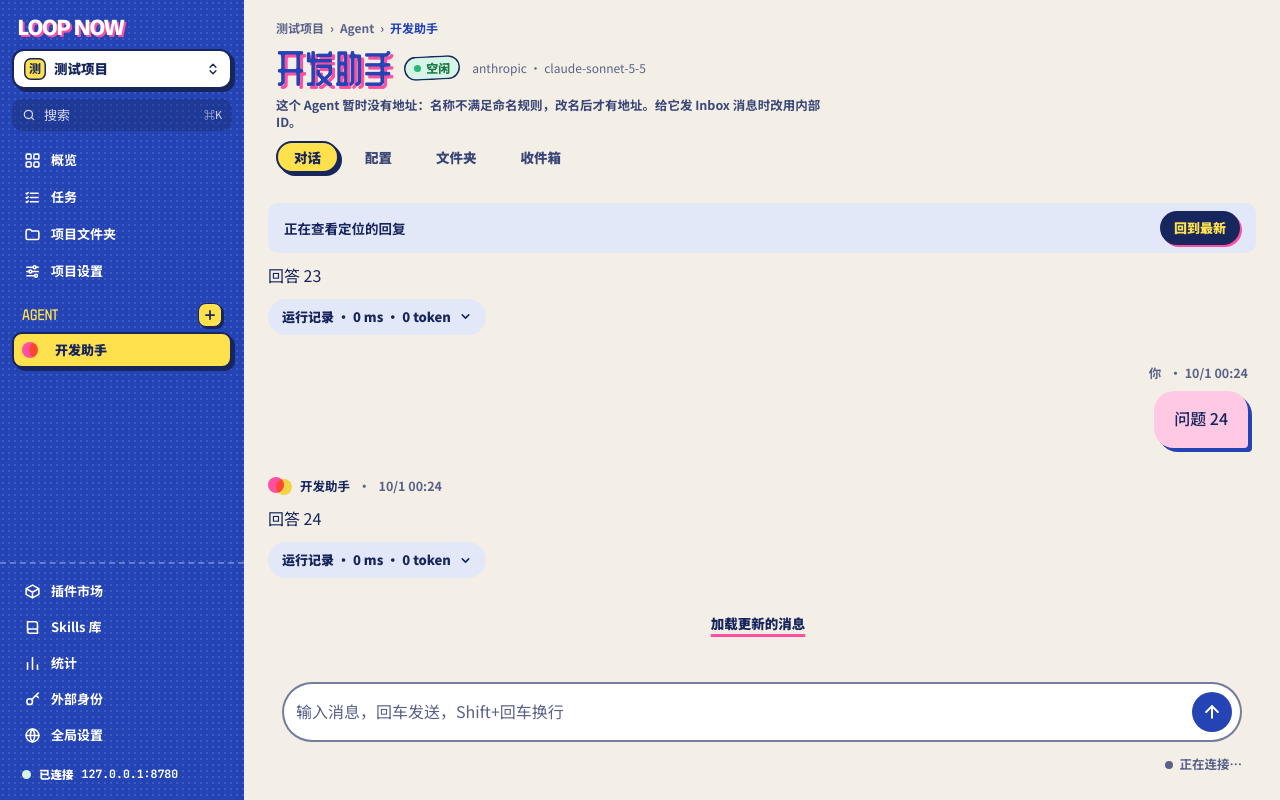
it: 从概览定位到回复 › 定位到很早的回复：显示它并展开运行记录；向下能连续加载到最新消息，没有重复或缺失
(page scrolled)
Check: the element named "对话" is shown, box [268,253,1256,666]
Check: the text "正在查看定位的回复" is shown, box [284,217,406,240]
Click the button "加载更新的消息".
click(758, 624)  # box [699,606,817,642]
(page scrolled)
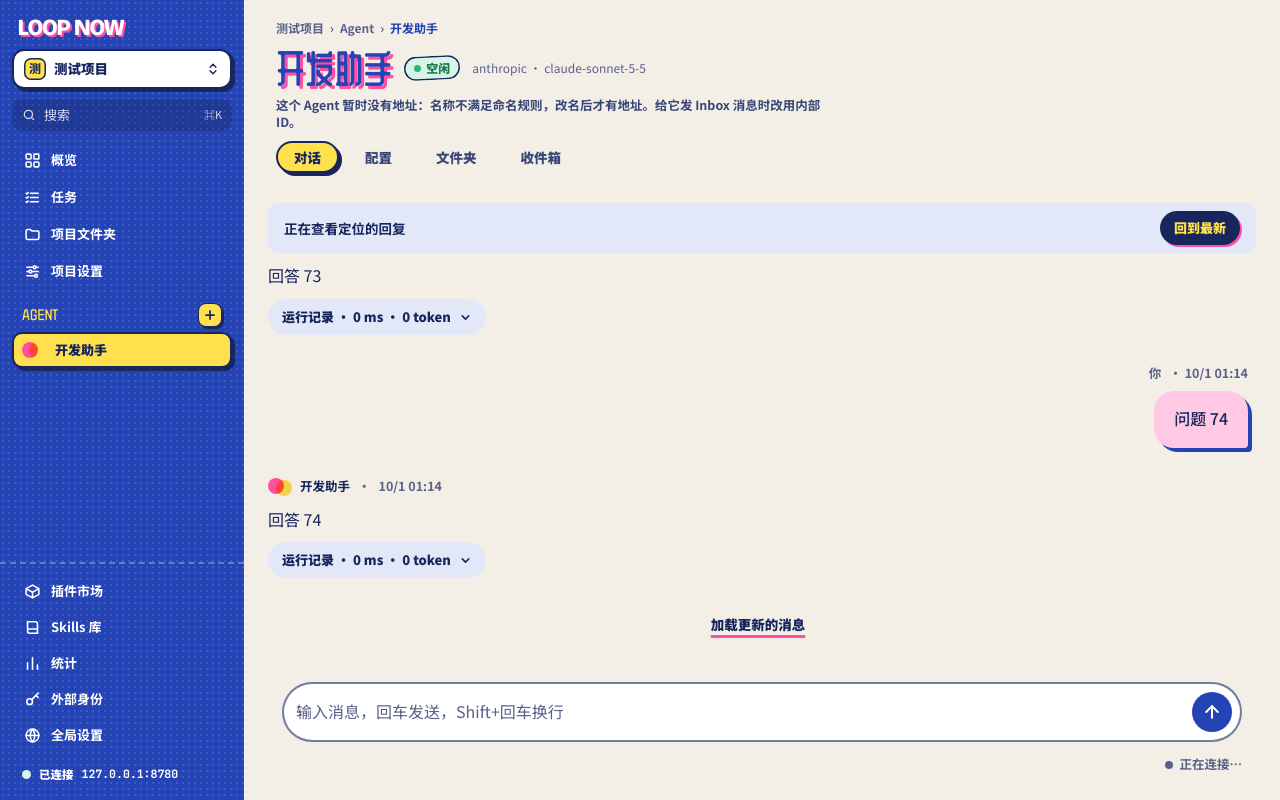
Click the button "加载更新的消息".
click(758, 624)  # box [699,606,817,642]
(page scrolled)
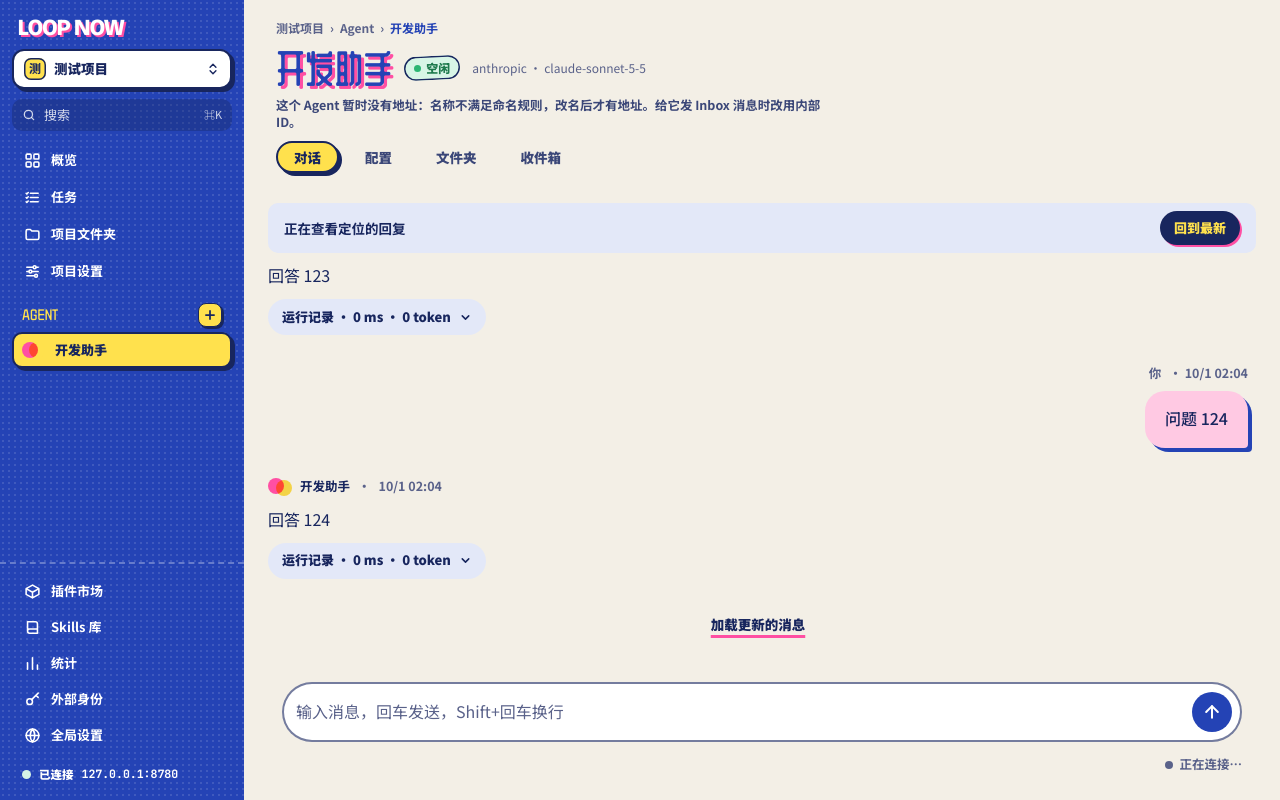
Click the button "加载更新的消息".
click(758, 625)  # box [699,607,817,643]
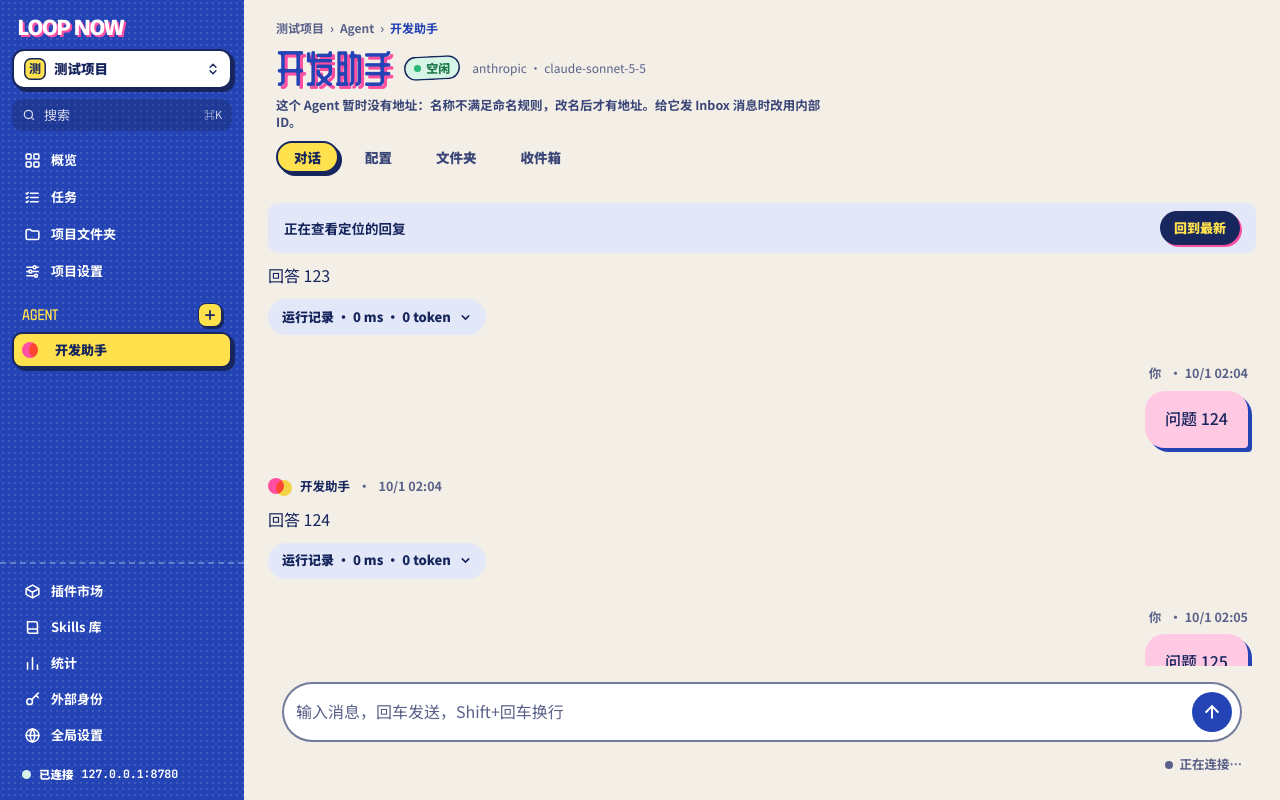
Check: the button "加载更新的消息" is gone
